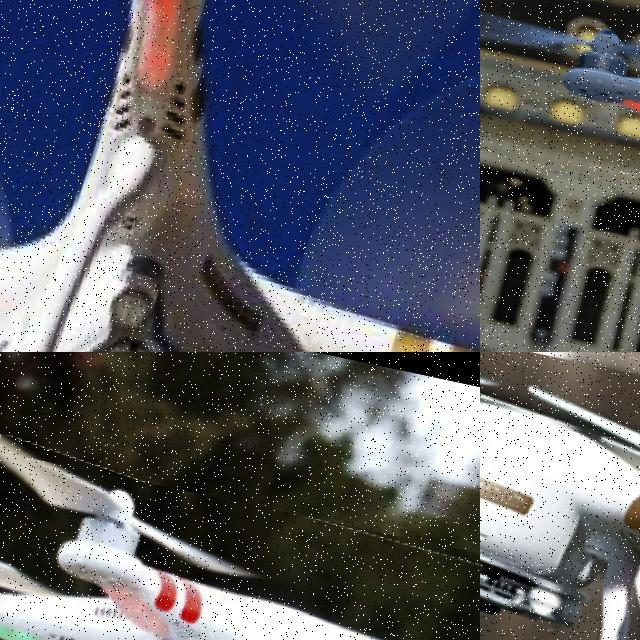0: (0, 445, 480, 640), (480, 352, 640, 640)
drone: (0, 0, 480, 352)
